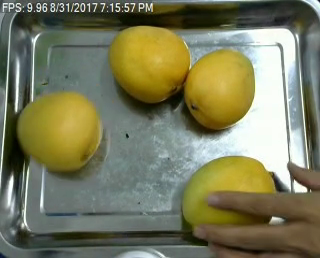Mango: (13, 91, 104, 177), (182, 156, 276, 238), (107, 25, 190, 105), (182, 49, 256, 129)
